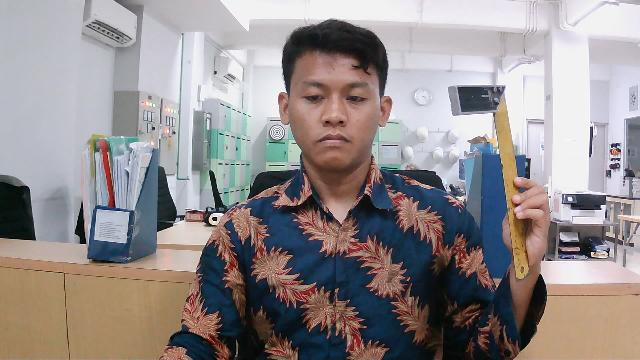penggaris_siku: (443, 75, 542, 282)
